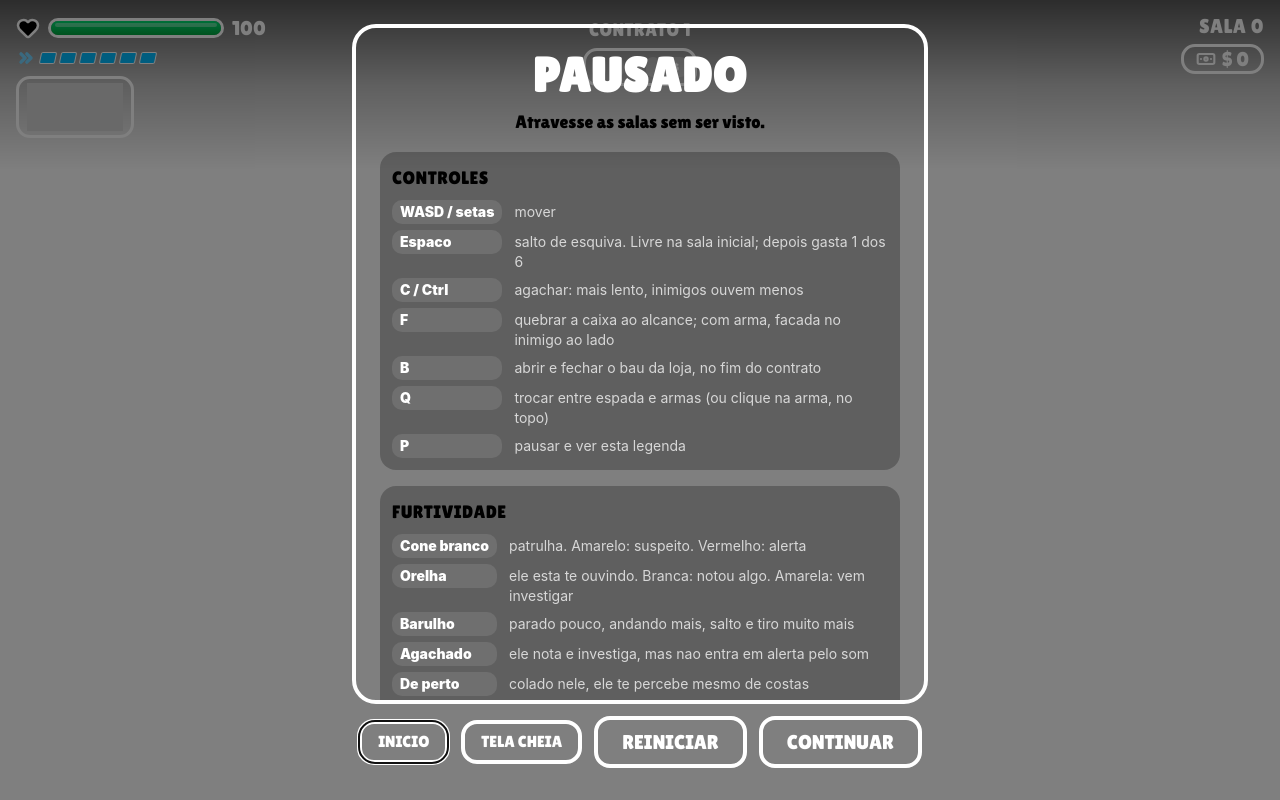
Test: GamePage › pausa oferece Reiniciar, que volta para a abertura de uma nova run
Click the button "Reiniciar". click: (670, 742)
box: [594, 716, 747, 768]
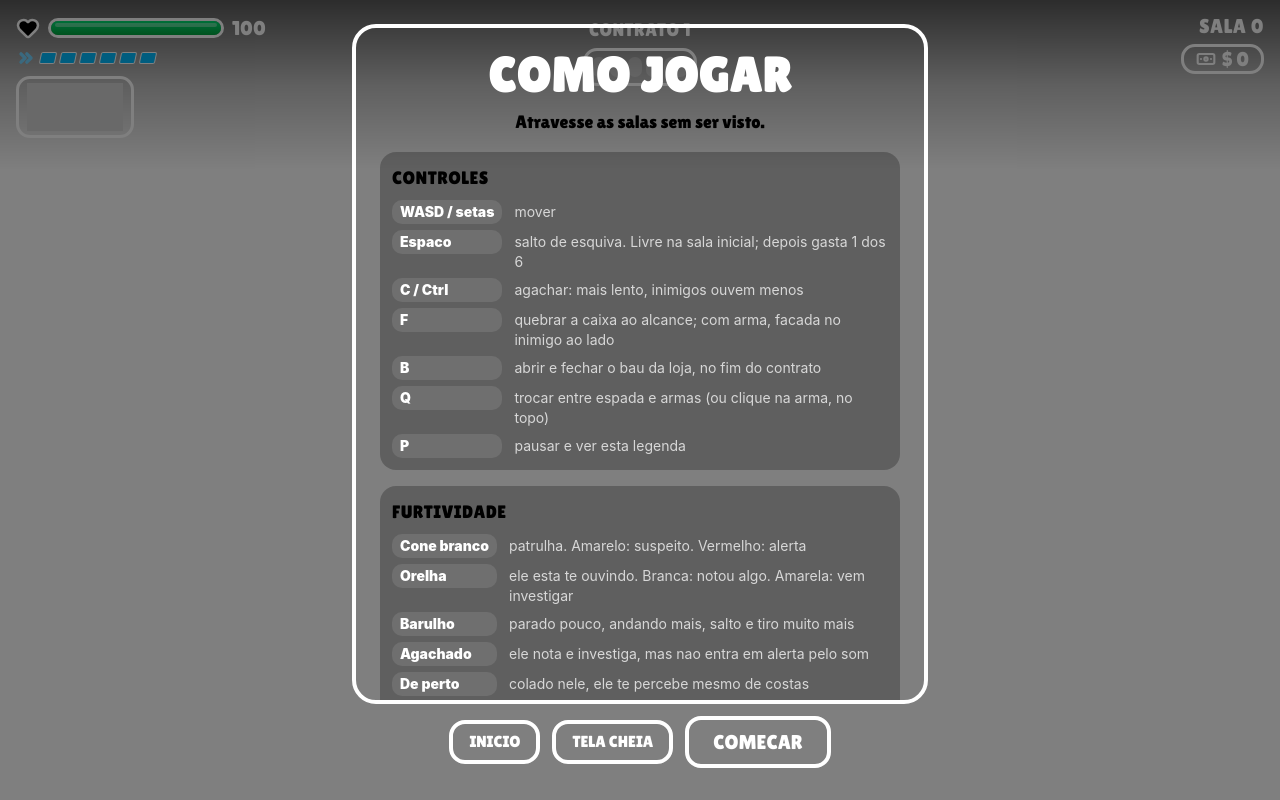
Result: the heading "Como jogar" is shown at [488, 52, 792, 100]
